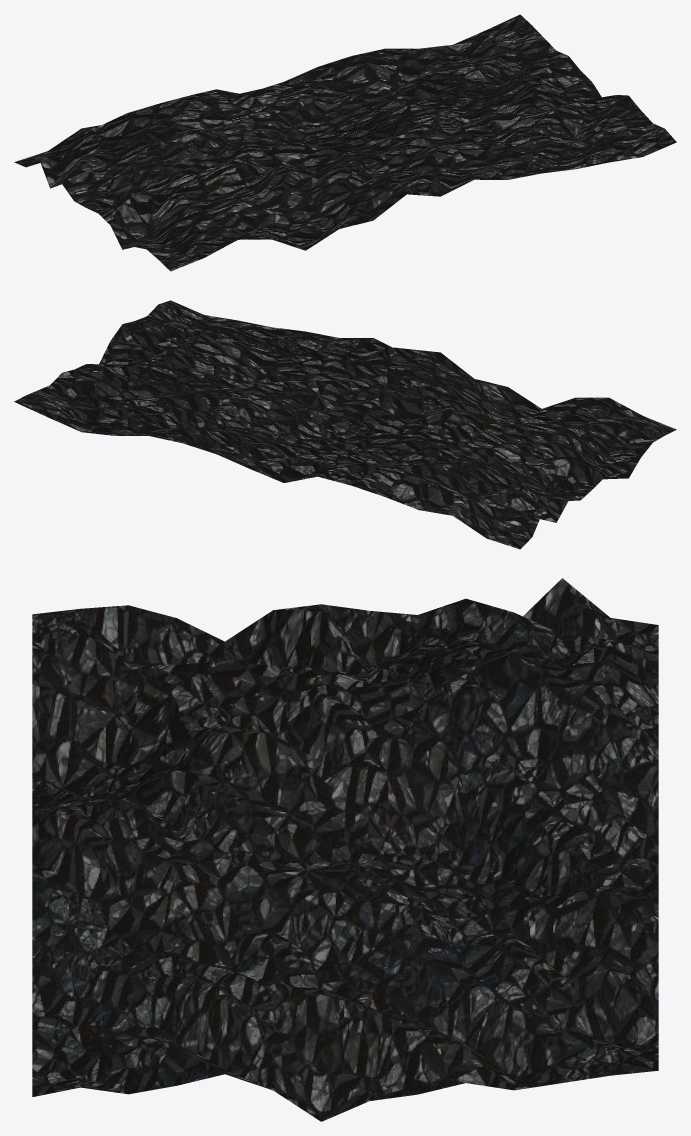
Rendered from carbon carrito.FBX.
The picture shows the model from 3 angles, top to bottom: view 1: azimuth 30°, elevation 25°; view 2: azimuth 150°, elevation 25°; view 3: azimuth 270°, elevation 25°; orthographic projection. The views are drawn at different scales.
Parts seen in each view (by area): view 1: Plane002; view 2: Plane002; view 3: Plane002.
Part boxes in pixels (x1,y1,x2,y2): Plane002: (14,14,676,271); Plane002: (14,300,676,549); Plane002: (32,578,658,1121).
Size of the model in its own units: 153 by 12.93 by 81.95.
